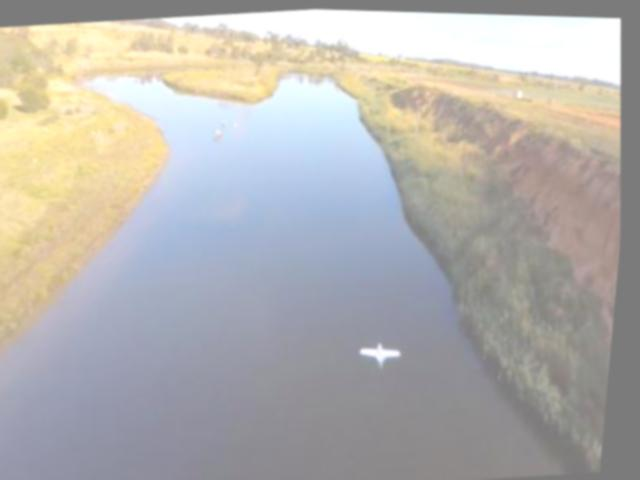uav: (363, 336, 412, 364)
